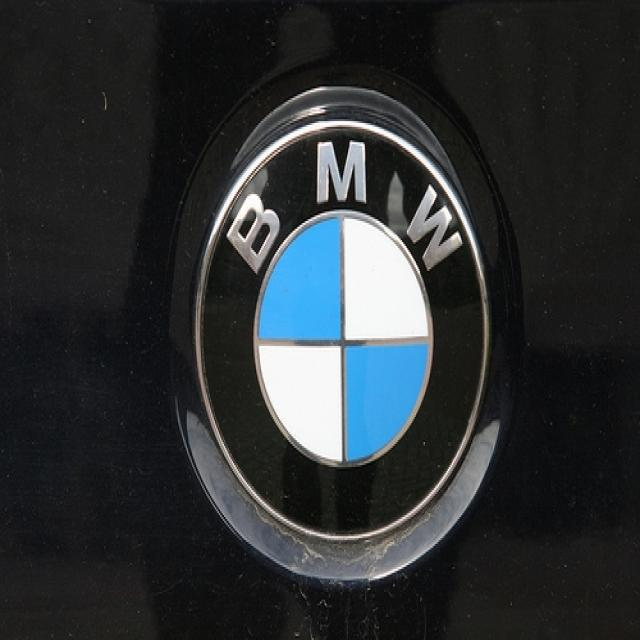bmw: (191, 113, 495, 553)
